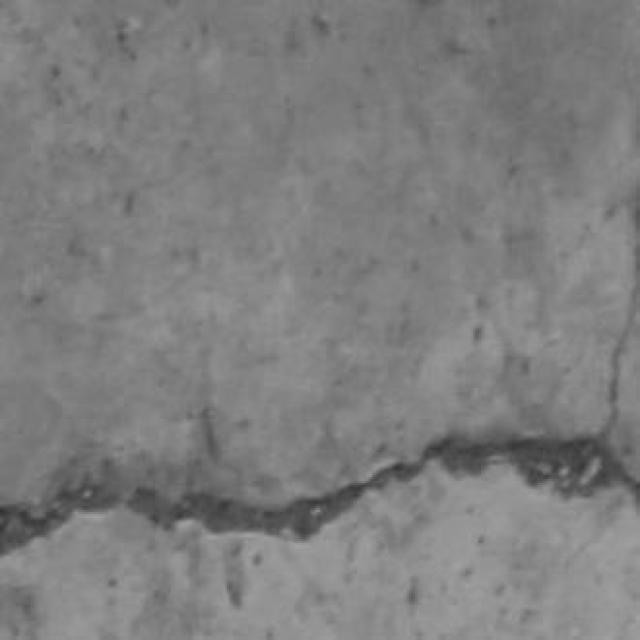crack: (0, 185, 639, 554), (0, 437, 639, 554), (602, 185, 639, 438)
